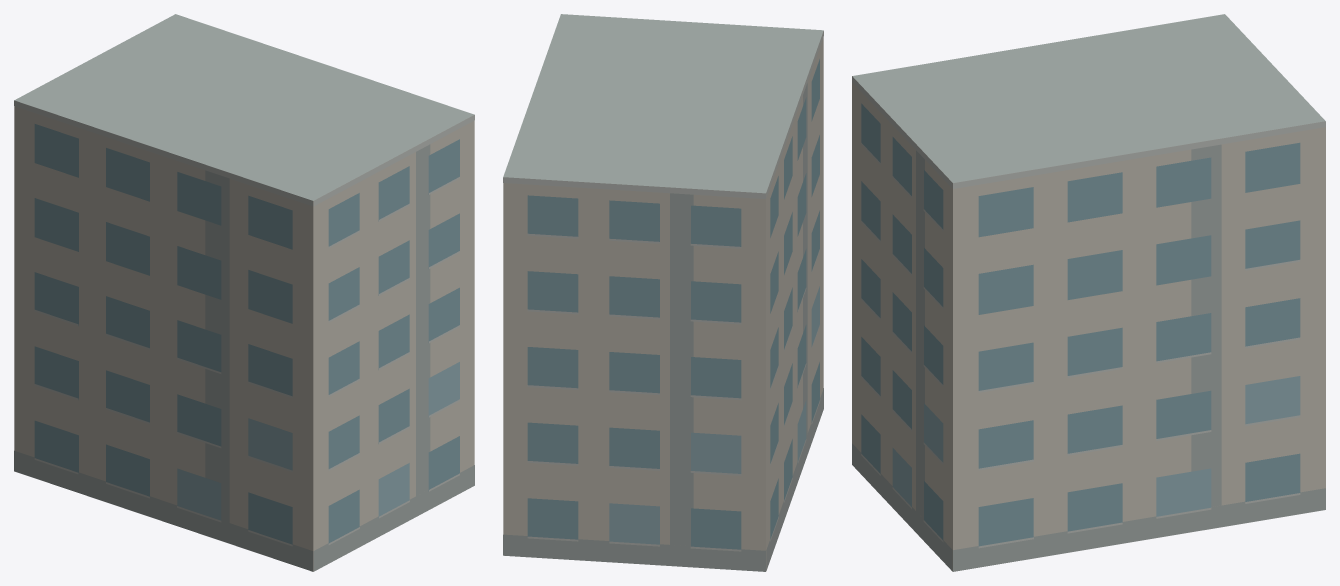
The model's file is survey-upis-32941121.glb.
3 renders of one model, left to right at view 1: azimuth 30°, elevation 25°; view 2: azimuth 150°, elevation 25°; view 3: azimuth 270°, elevation 25°, orthographic. The views are drawn at different scales.
Visible parts, largest first — view 1: survey-upis-32941121.tmp; view 2: survey-upis-32941121.tmp; view 3: survey-upis-32941121.tmp.
Part boxes in pixels (x1,y1,x2,y2): survey-upis-32941121.tmp: (14, 14, 474, 571); survey-upis-32941121.tmp: (503, 14, 823, 571); survey-upis-32941121.tmp: (852, 14, 1325, 571).
Bounding box in the file's own units: 14.8 × 15.85 × 17.52.
